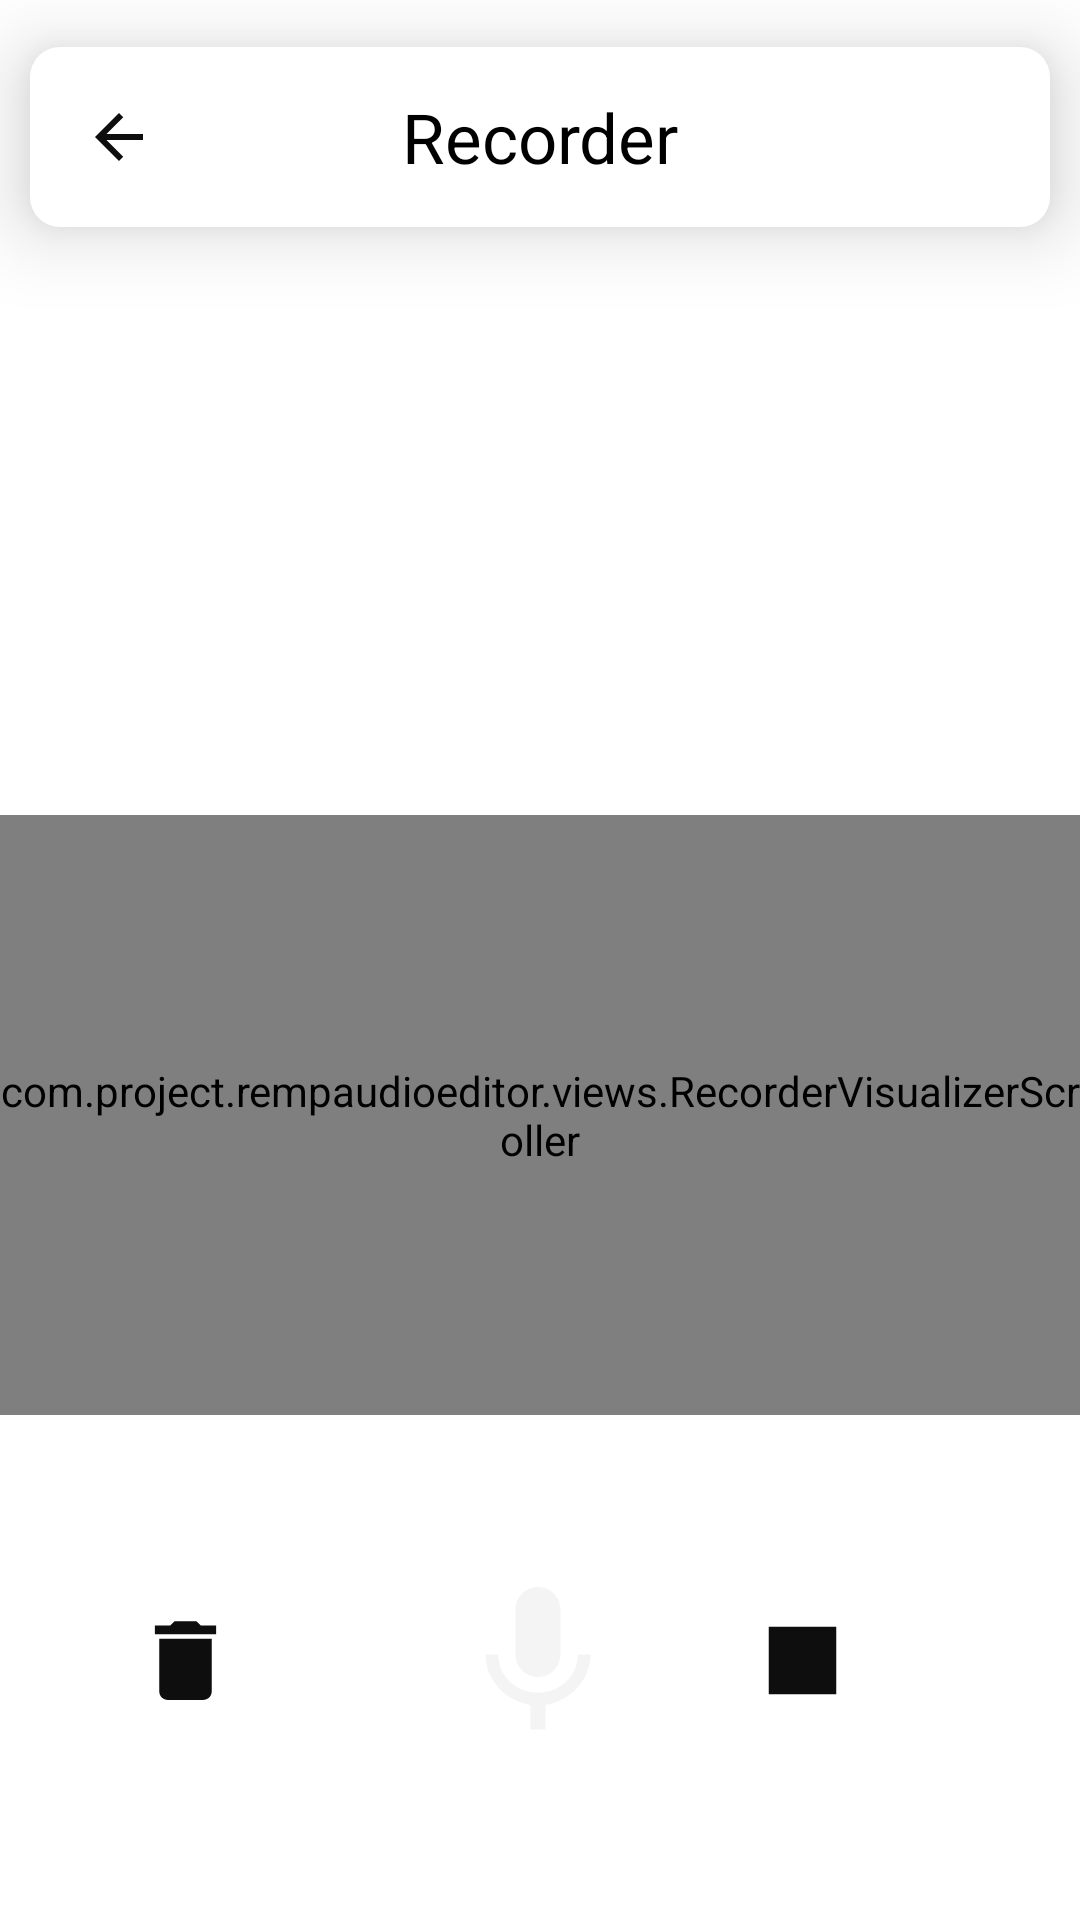

Locate icon controls on the screen. Image size 1080px x 1920px, boxes as box(x1, y1, x2, y2).
arrow back: box(95, 113, 143, 161)
delete: box(154, 1621, 217, 1700)
stop: box(768, 1626, 837, 1695)
